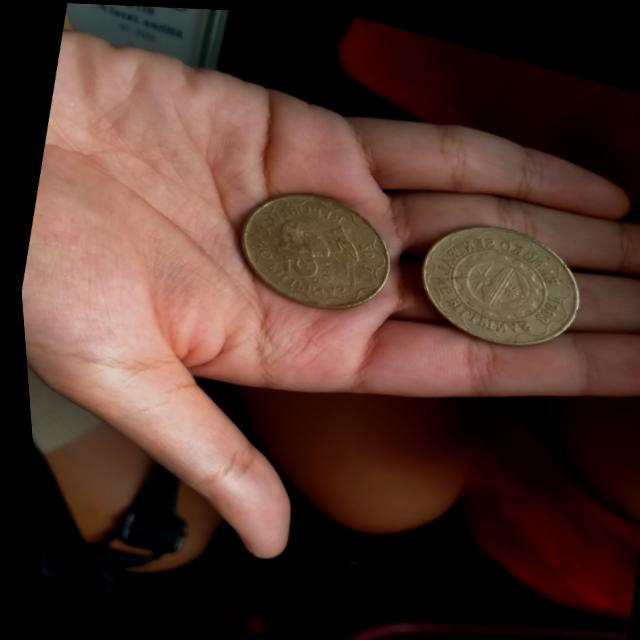5_Old_Back: (403, 206, 586, 359)
5_Old_Front: (266, 232, 347, 299)
